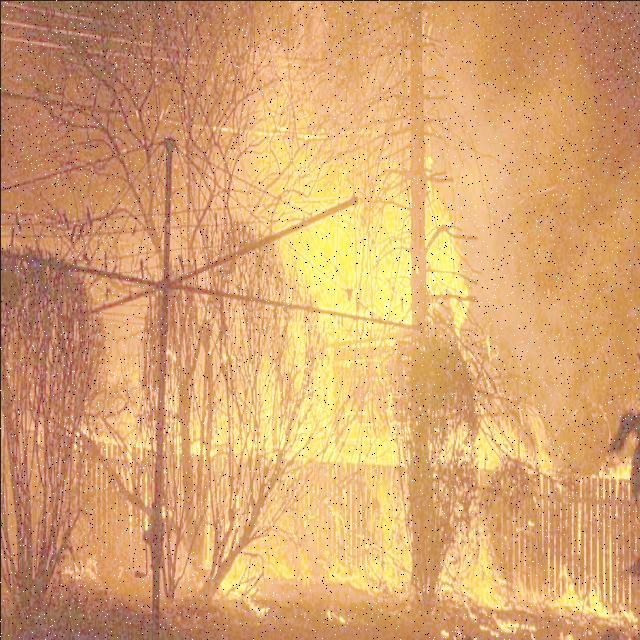api: (242, 120, 563, 489), (319, 455, 512, 615), (201, 484, 271, 621), (547, 559, 637, 631), (73, 420, 147, 464), (585, 451, 639, 495), (59, 549, 103, 589), (185, 435, 230, 461)
